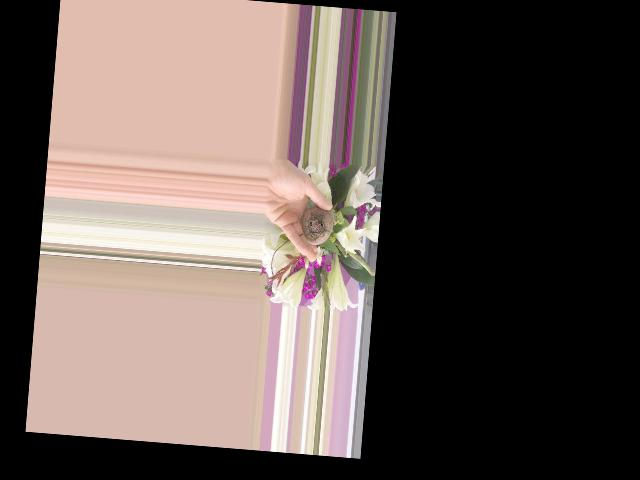beet: (298, 204, 334, 247)
